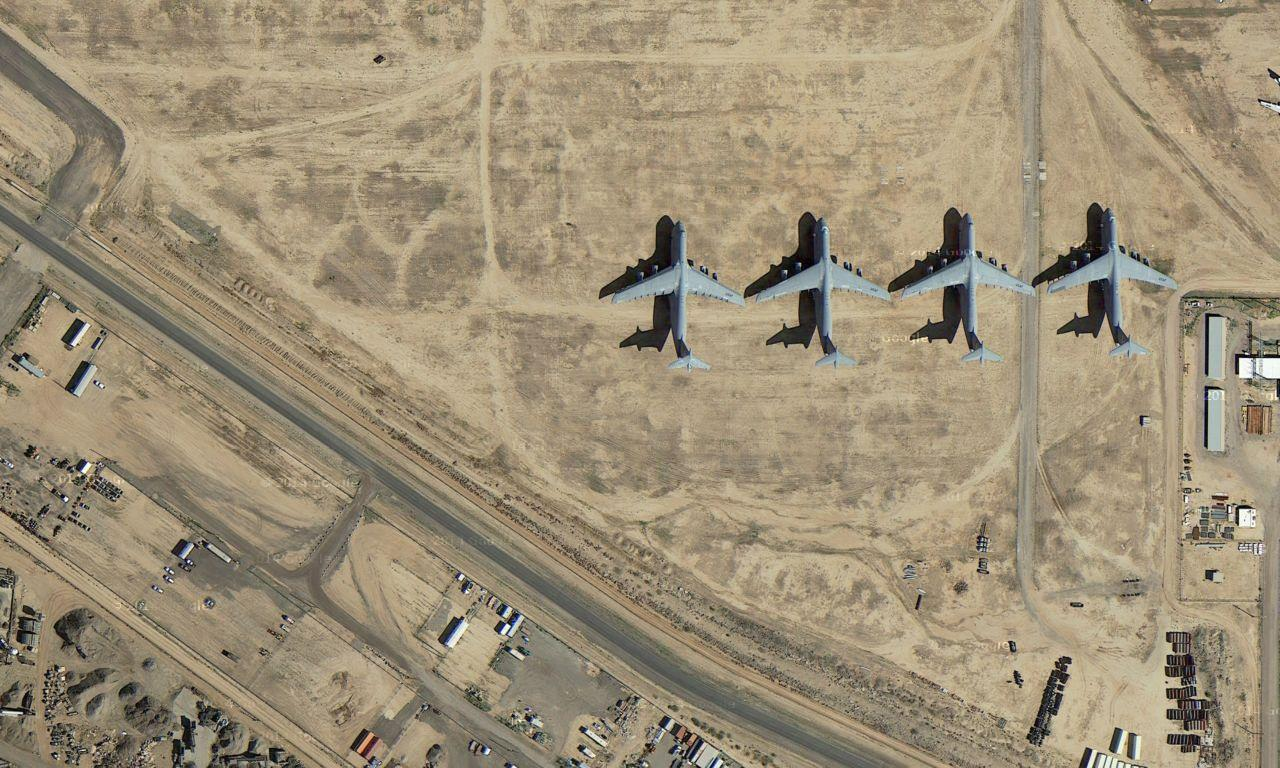KC-135: (902, 206, 1042, 369), (1045, 202, 1185, 361), (607, 219, 747, 377), (755, 214, 897, 369)
